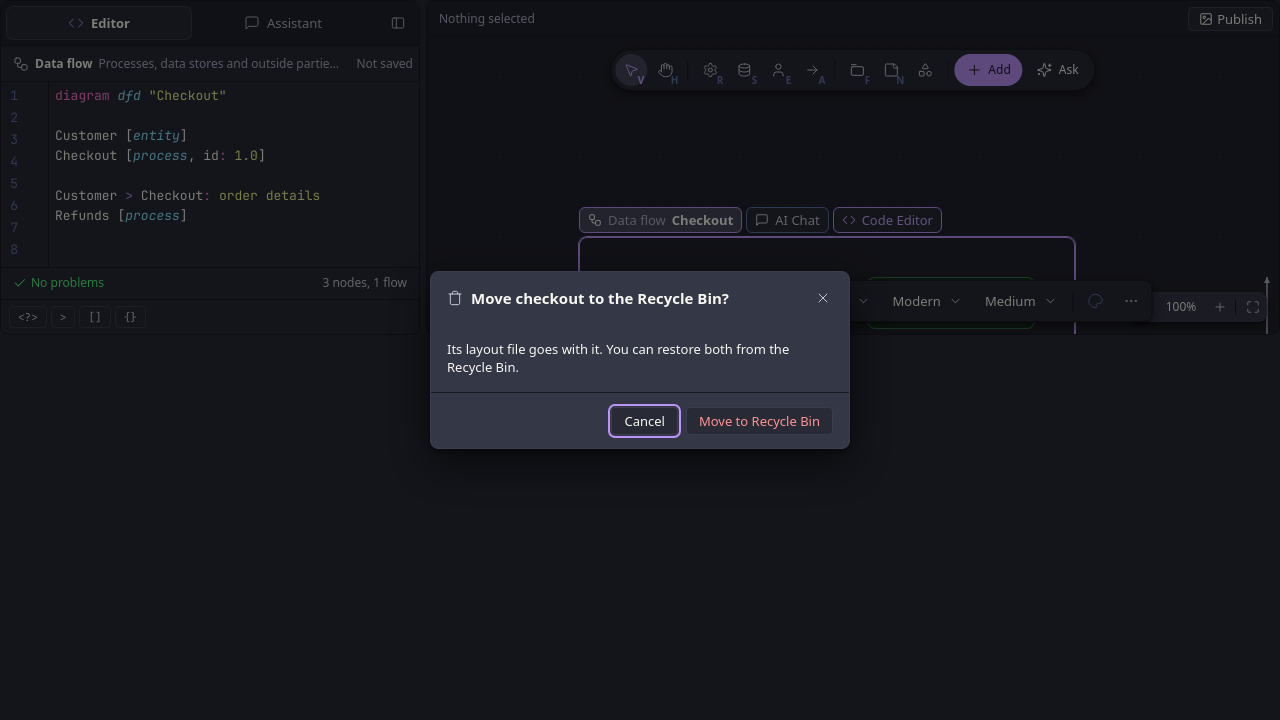
Test case: delete_that_fails_keeps_the_tab_its_edits_and_the_file
What coordinates should you click on to do the following:
click the button "Move to Recycle Bin"
I would click on:
 (759, 420)
Its box is x1=686 y1=406 x2=833 y2=434.
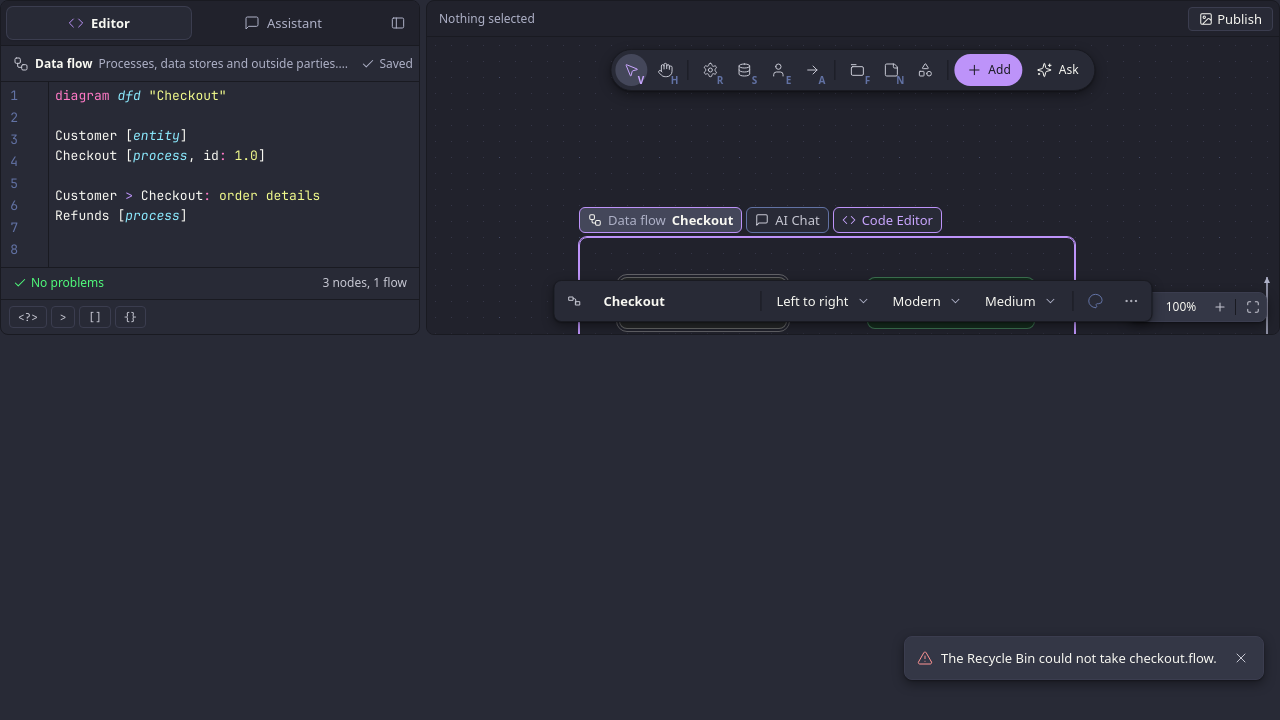
Expected: the text "The Recycle Bin could not take checkout.flow." is shown, x1=941 y1=649 x2=1219 y2=667
